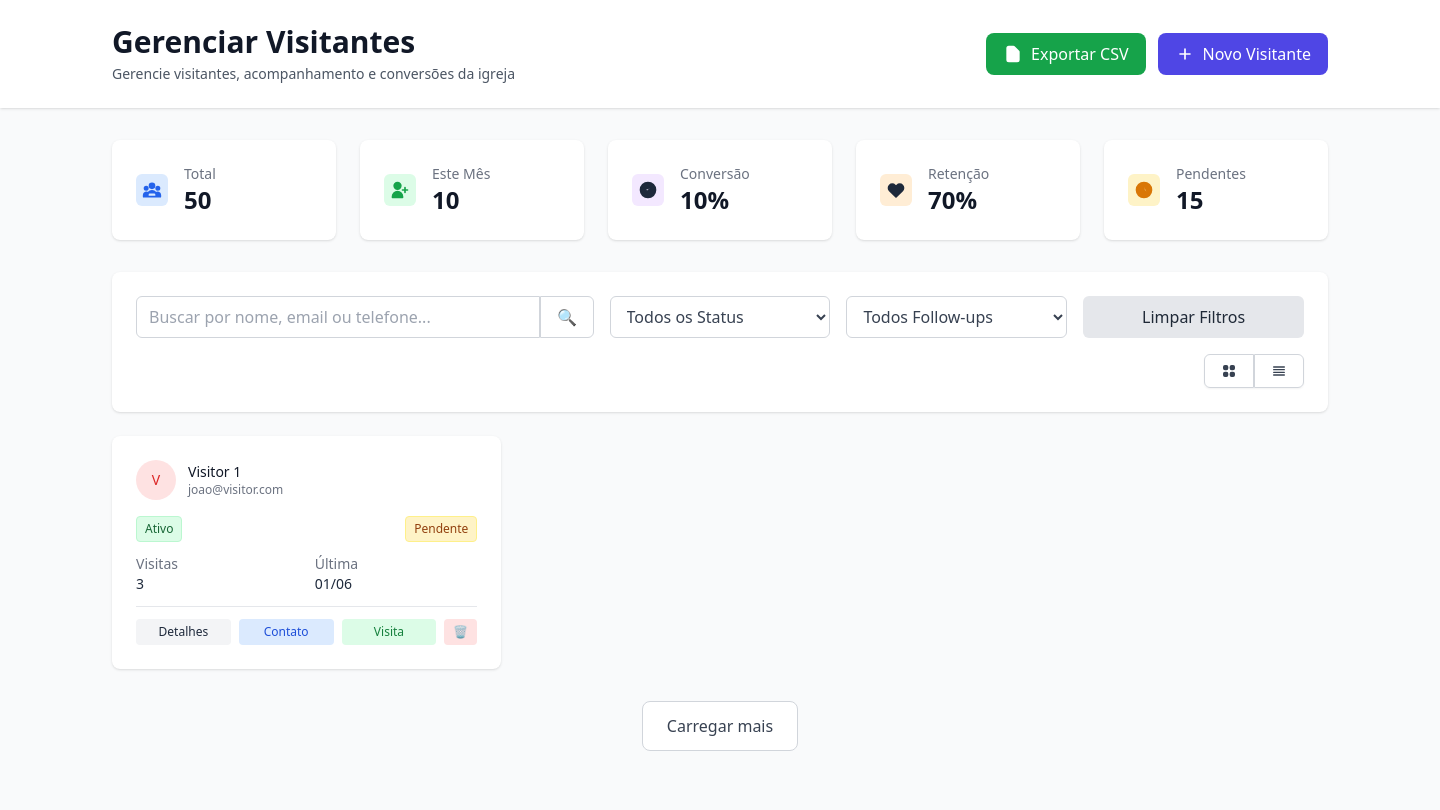
Test: AdminVisitorsPage › Pagination › should load more visitors when clicking button
expect the heading "Visitor 1" is shown: met, box top-left (188, 462), bottom-right (241, 481)
Click the button "Carregar mais": (720, 726) top-left (642, 701), bottom-right (798, 751)
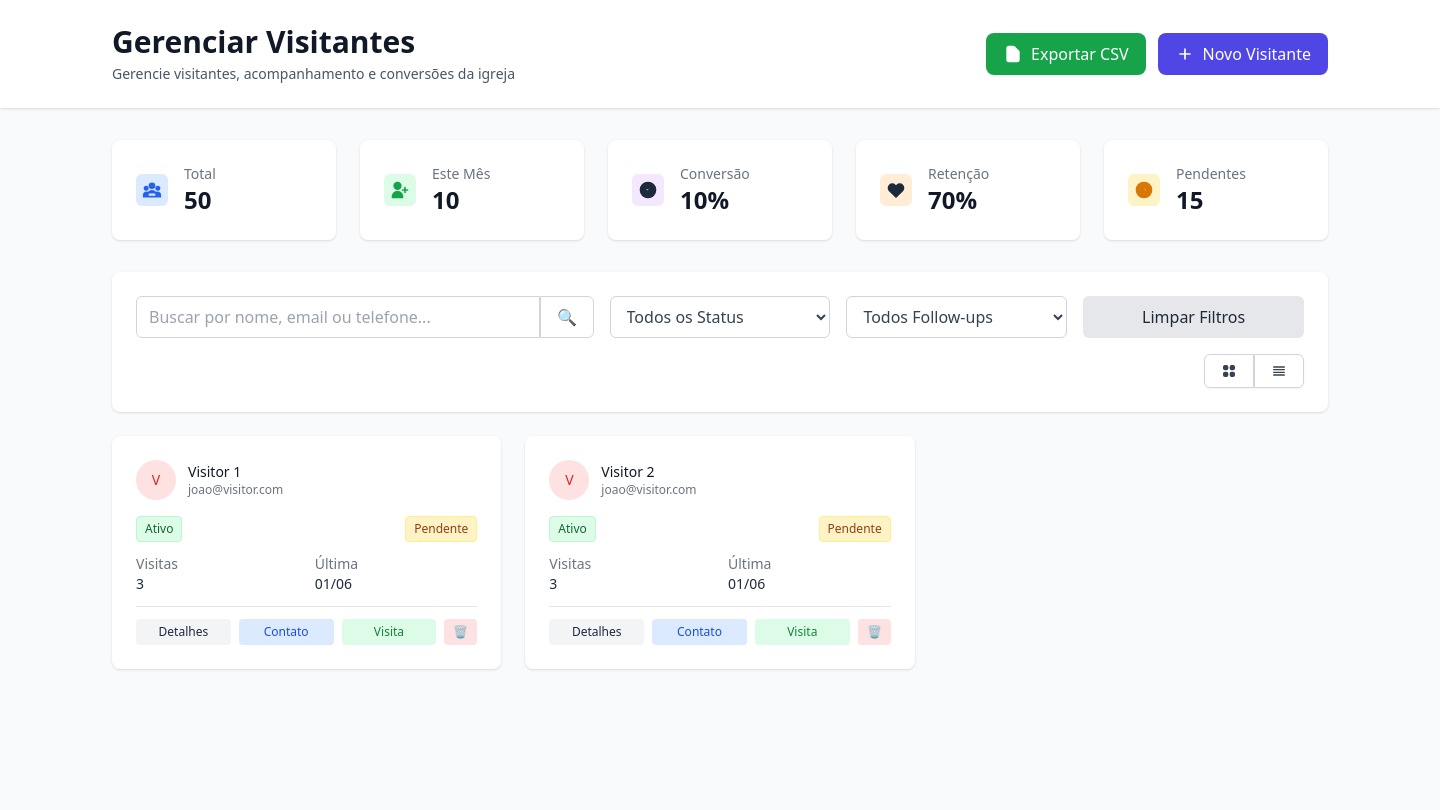
expect the heading "Visitor 1" is shown: met, box top-left (188, 462), bottom-right (241, 481)
expect the heading "Visitor 2" is shown: met, box top-left (601, 462), bottom-right (655, 481)
